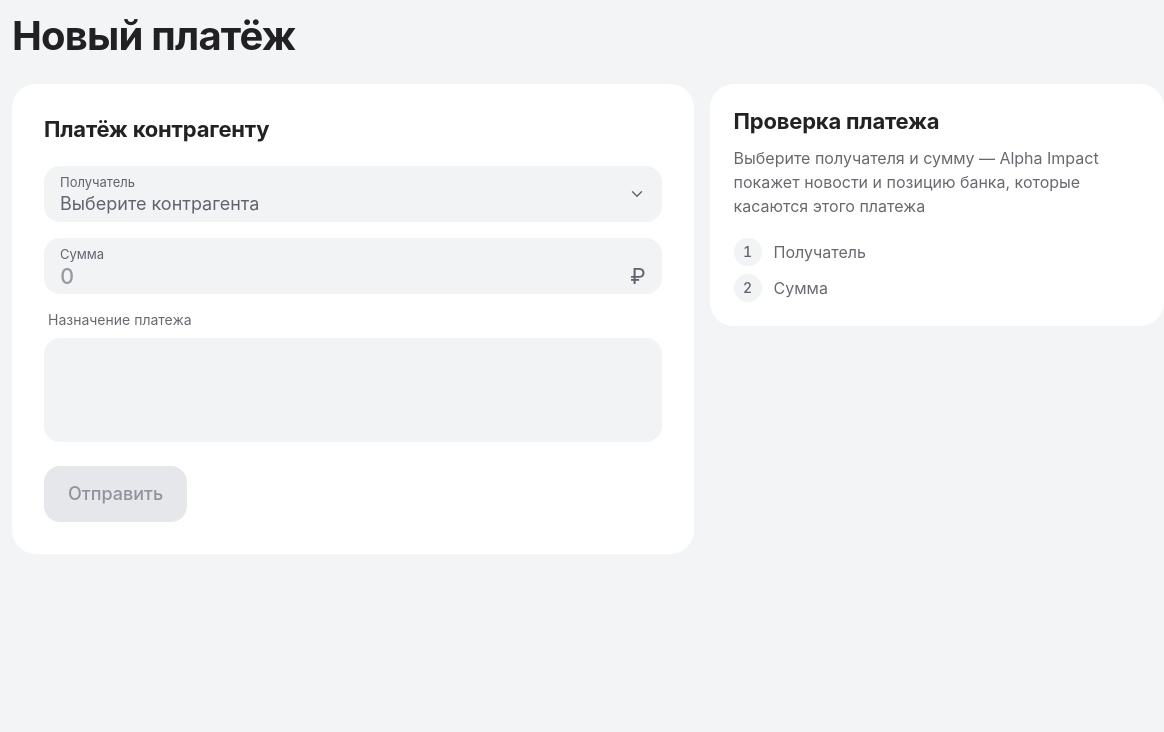
Test: PaymentPage › lists real counterparties of the wholesaler as recipients
Click the dropdown named "Получатель" at (160, 204), box [44, 166, 662, 222]
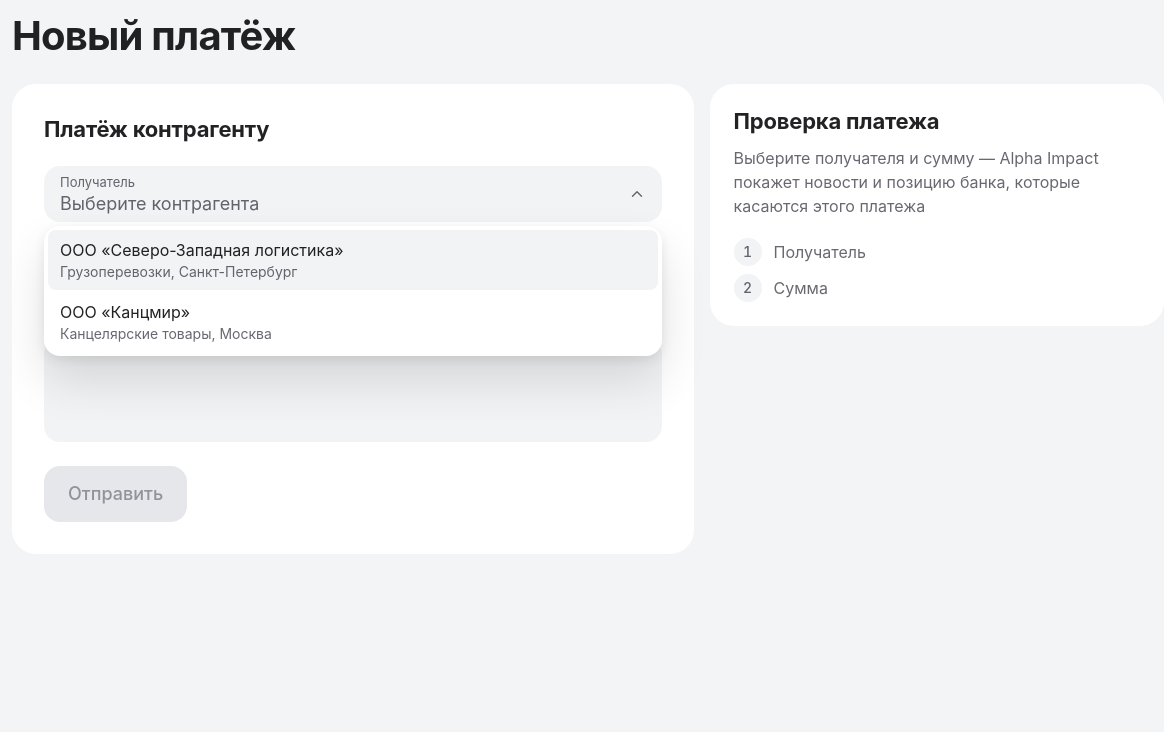
Result: the options read "ООО «Северо-Западная логистика»Грузоперевозки, Санкт-Петербург", "ООО «Канцмир»Канцелярские товары, Москва", in this order at [48, 230, 658, 290]; [60, 302, 272, 342]
